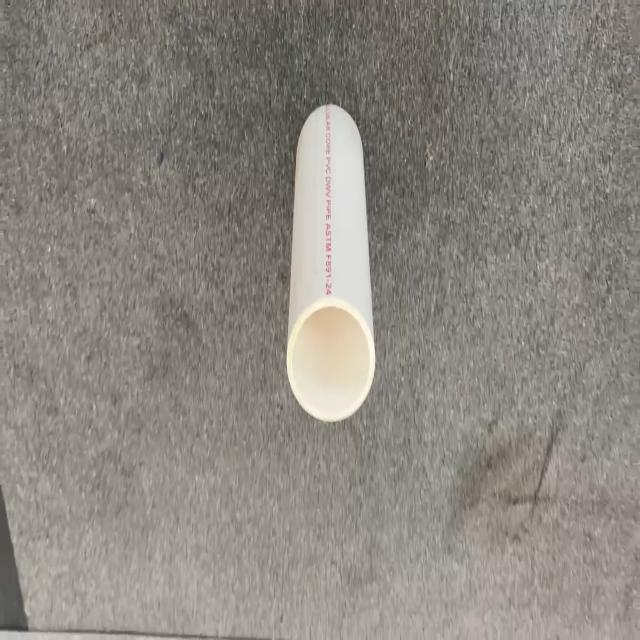coral: (286, 101, 376, 422)
